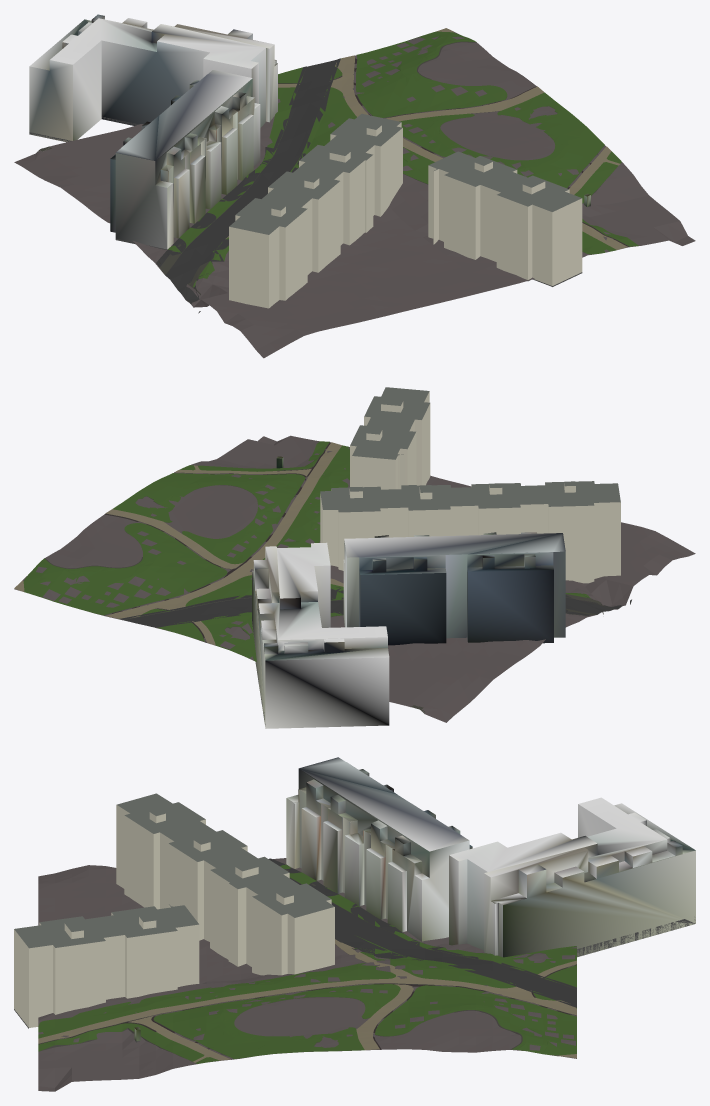
3 renders of one model, top to bottom at view 1: azimuth 30°, elevation 25°; view 2: azimuth 150°, elevation 25°; view 3: azimuth 270°, elevation 25°, orthographic. The views are drawn at different scales.
Parts seen in each view (by area): view 1: c_m09_p07; view 2: c_m09_p07; view 3: c_m09_p07.
Part boxes in pixels (<box>): c_m09_p07: <box>14,14,695,358</box>; c_m09_p07: <box>14,387,695,728</box>; c_m09_p07: <box>14,757,695,1091</box>.
Bounding box in the file's own units: 131 × 31.22 × 162.
